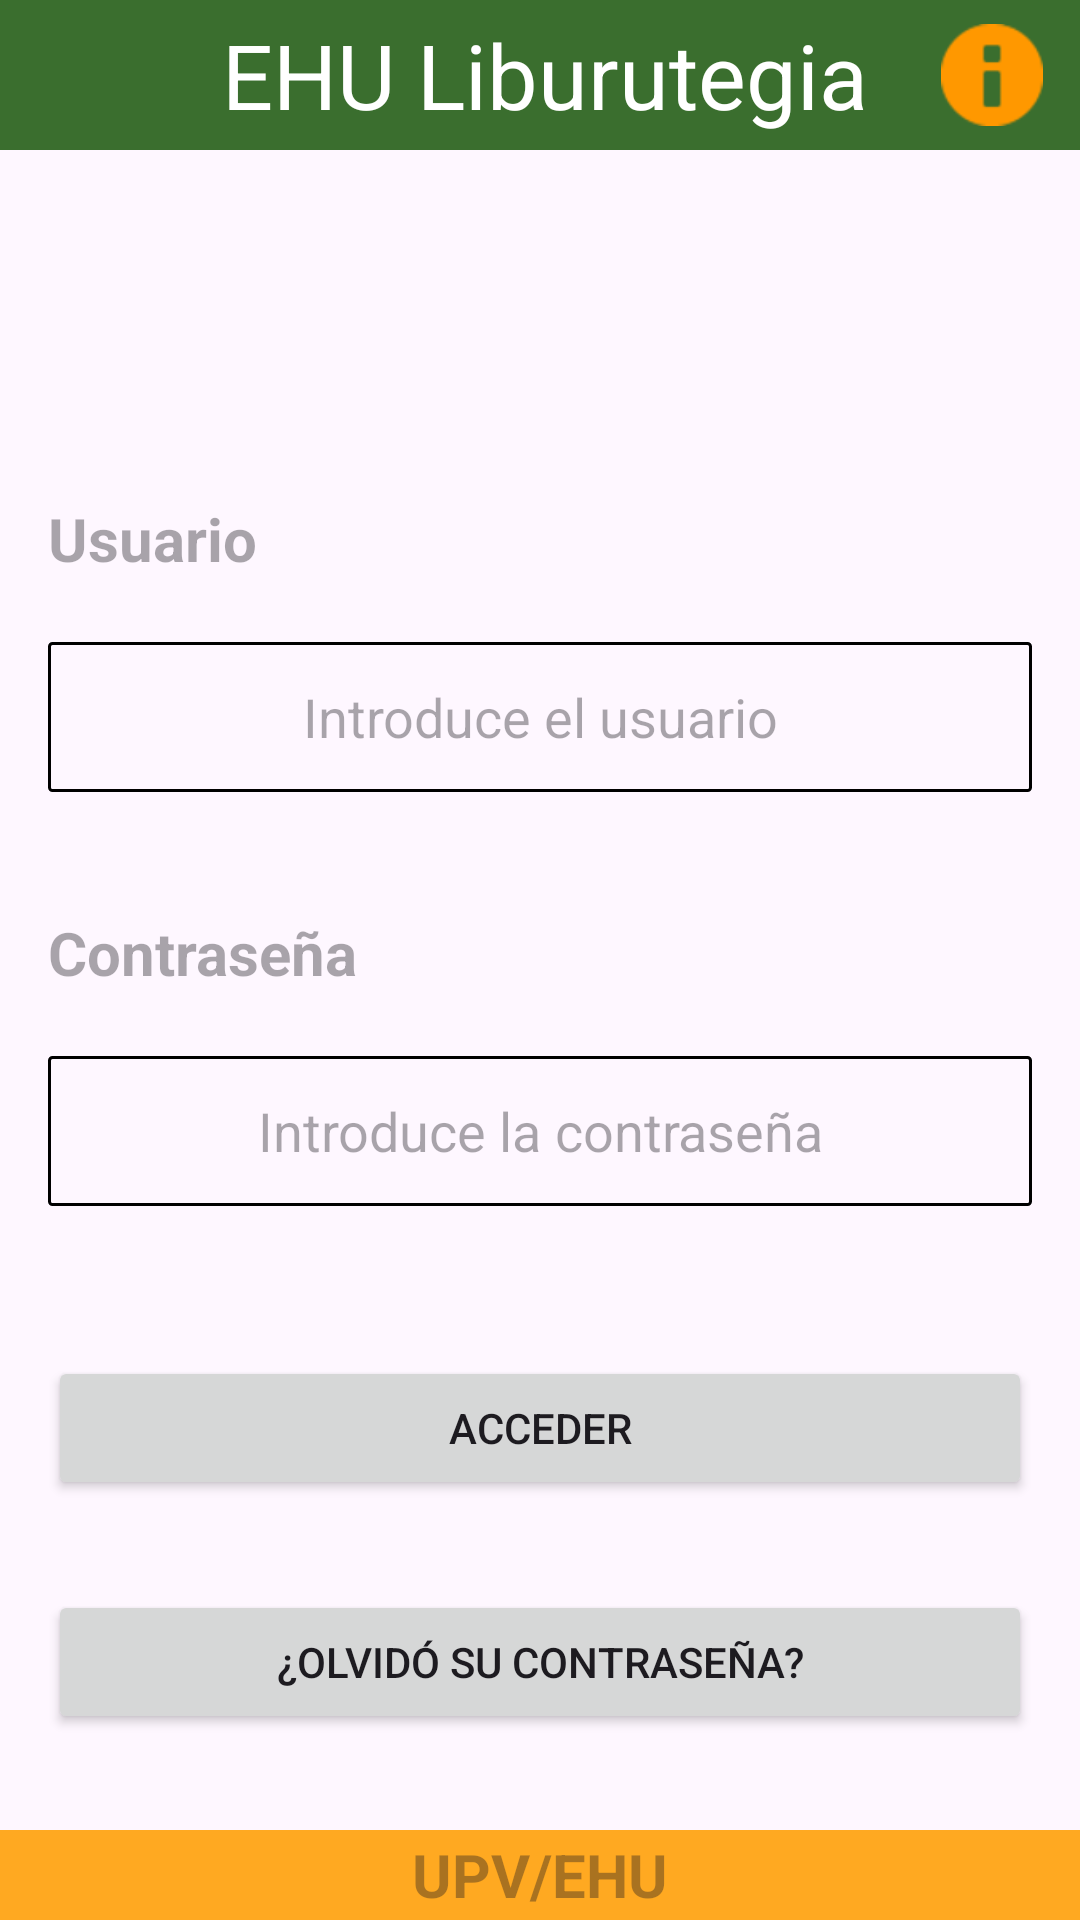

Named icons in this screenshot (1080 x 1920) and their centers, (x=x, y=y):
info: (x=992, y=75)
